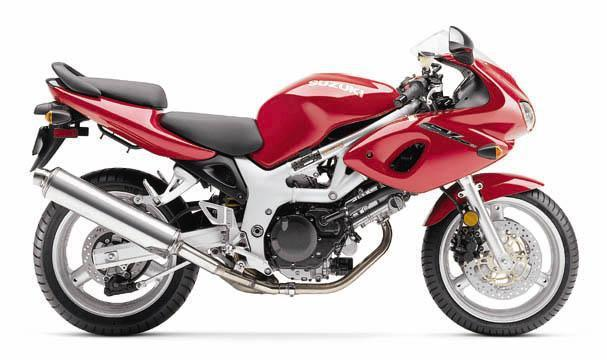Motorcycle: (20, 22, 592, 353)
